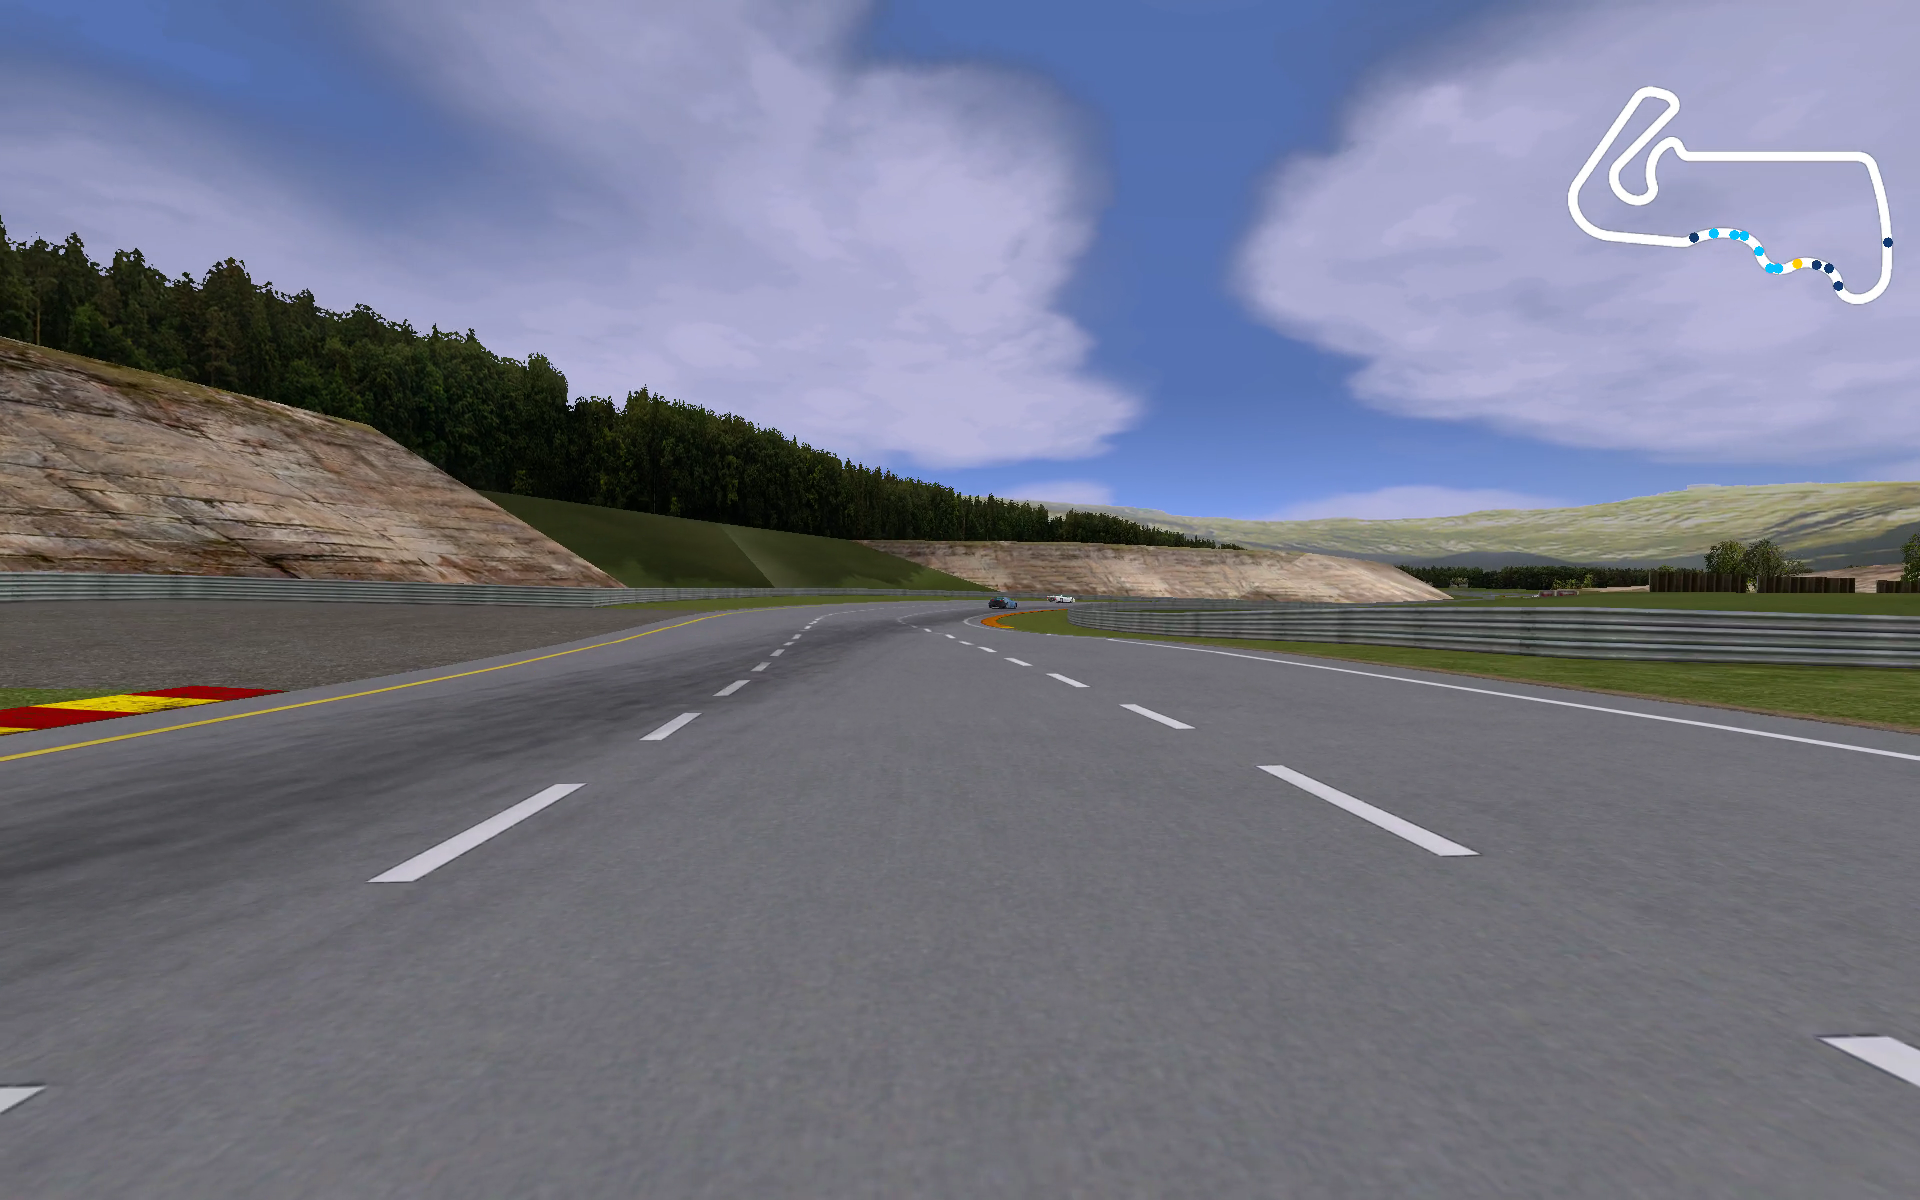car: (986, 592, 1017, 611), (1044, 590, 1081, 606)
